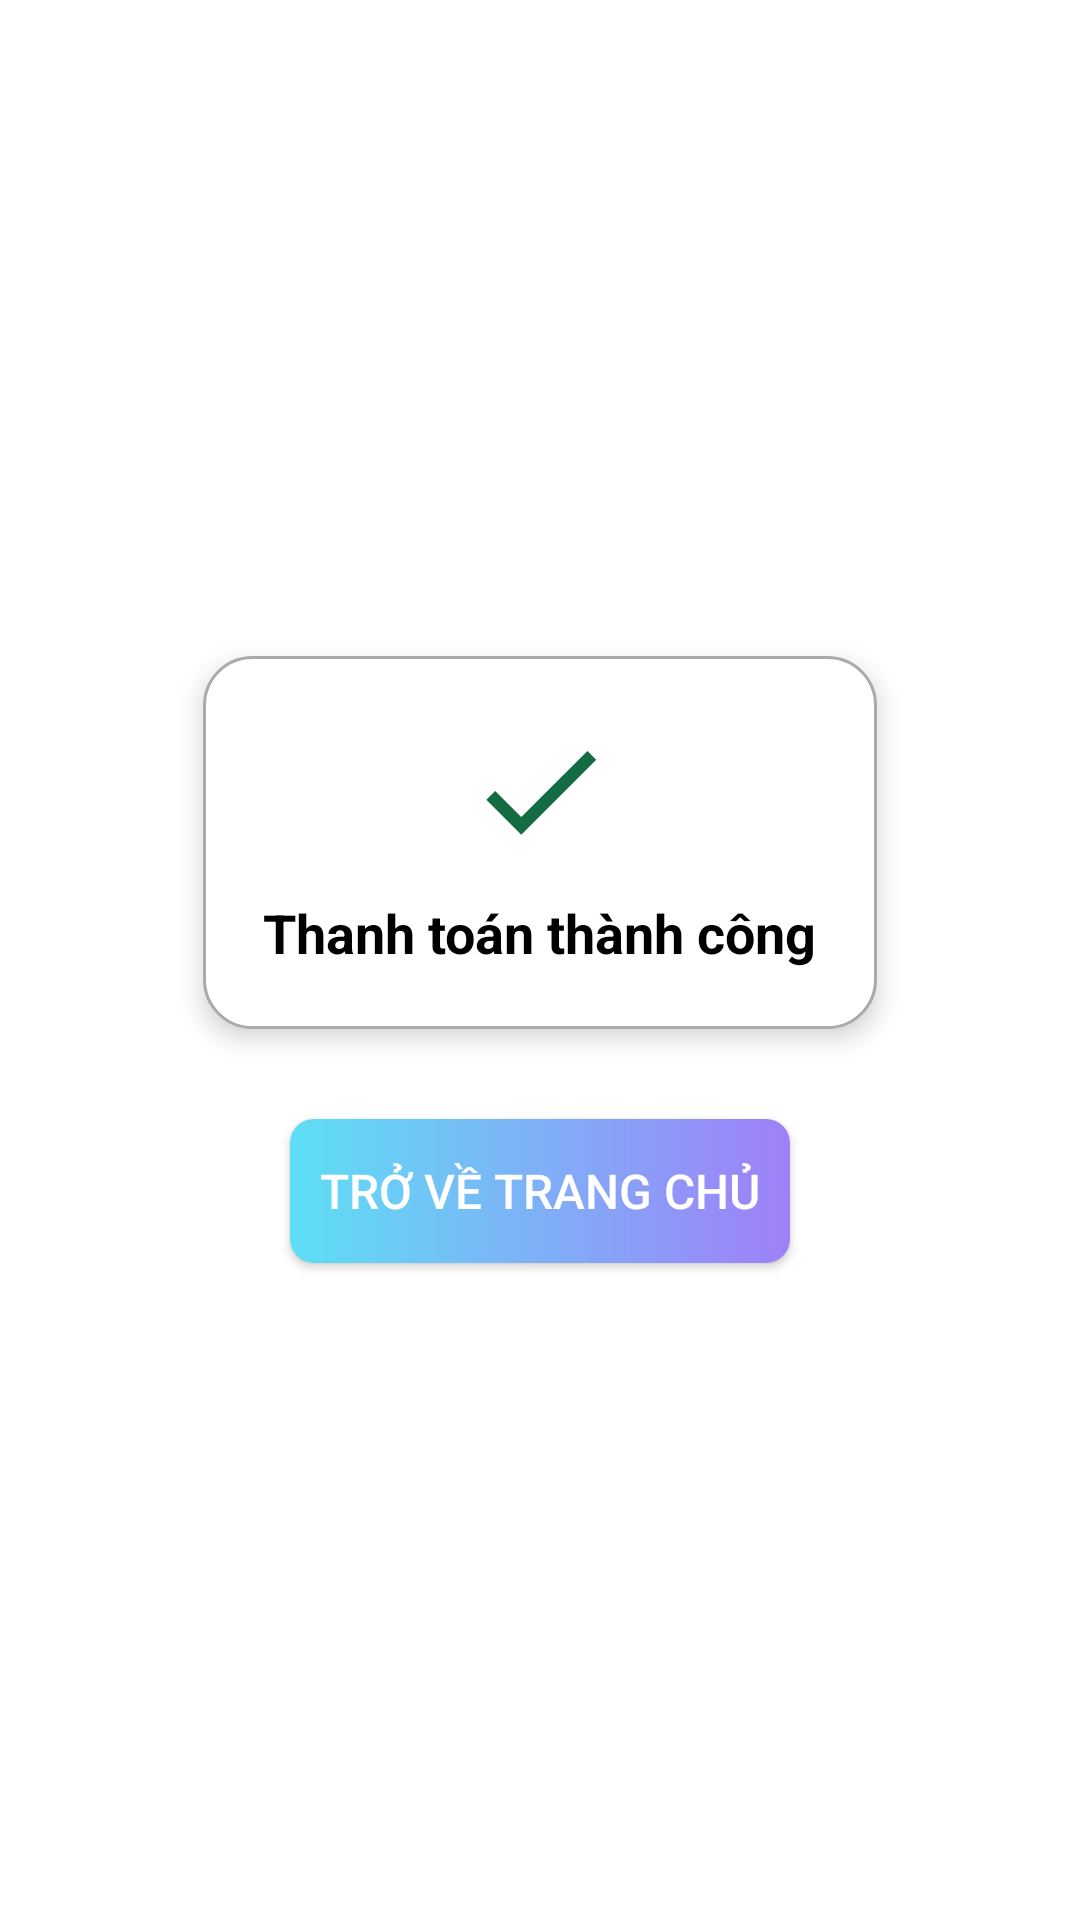

Screen size 1080 x 1920. Icon name, then its center in pixels as [x,y]:
payment notify check: [541,793]
